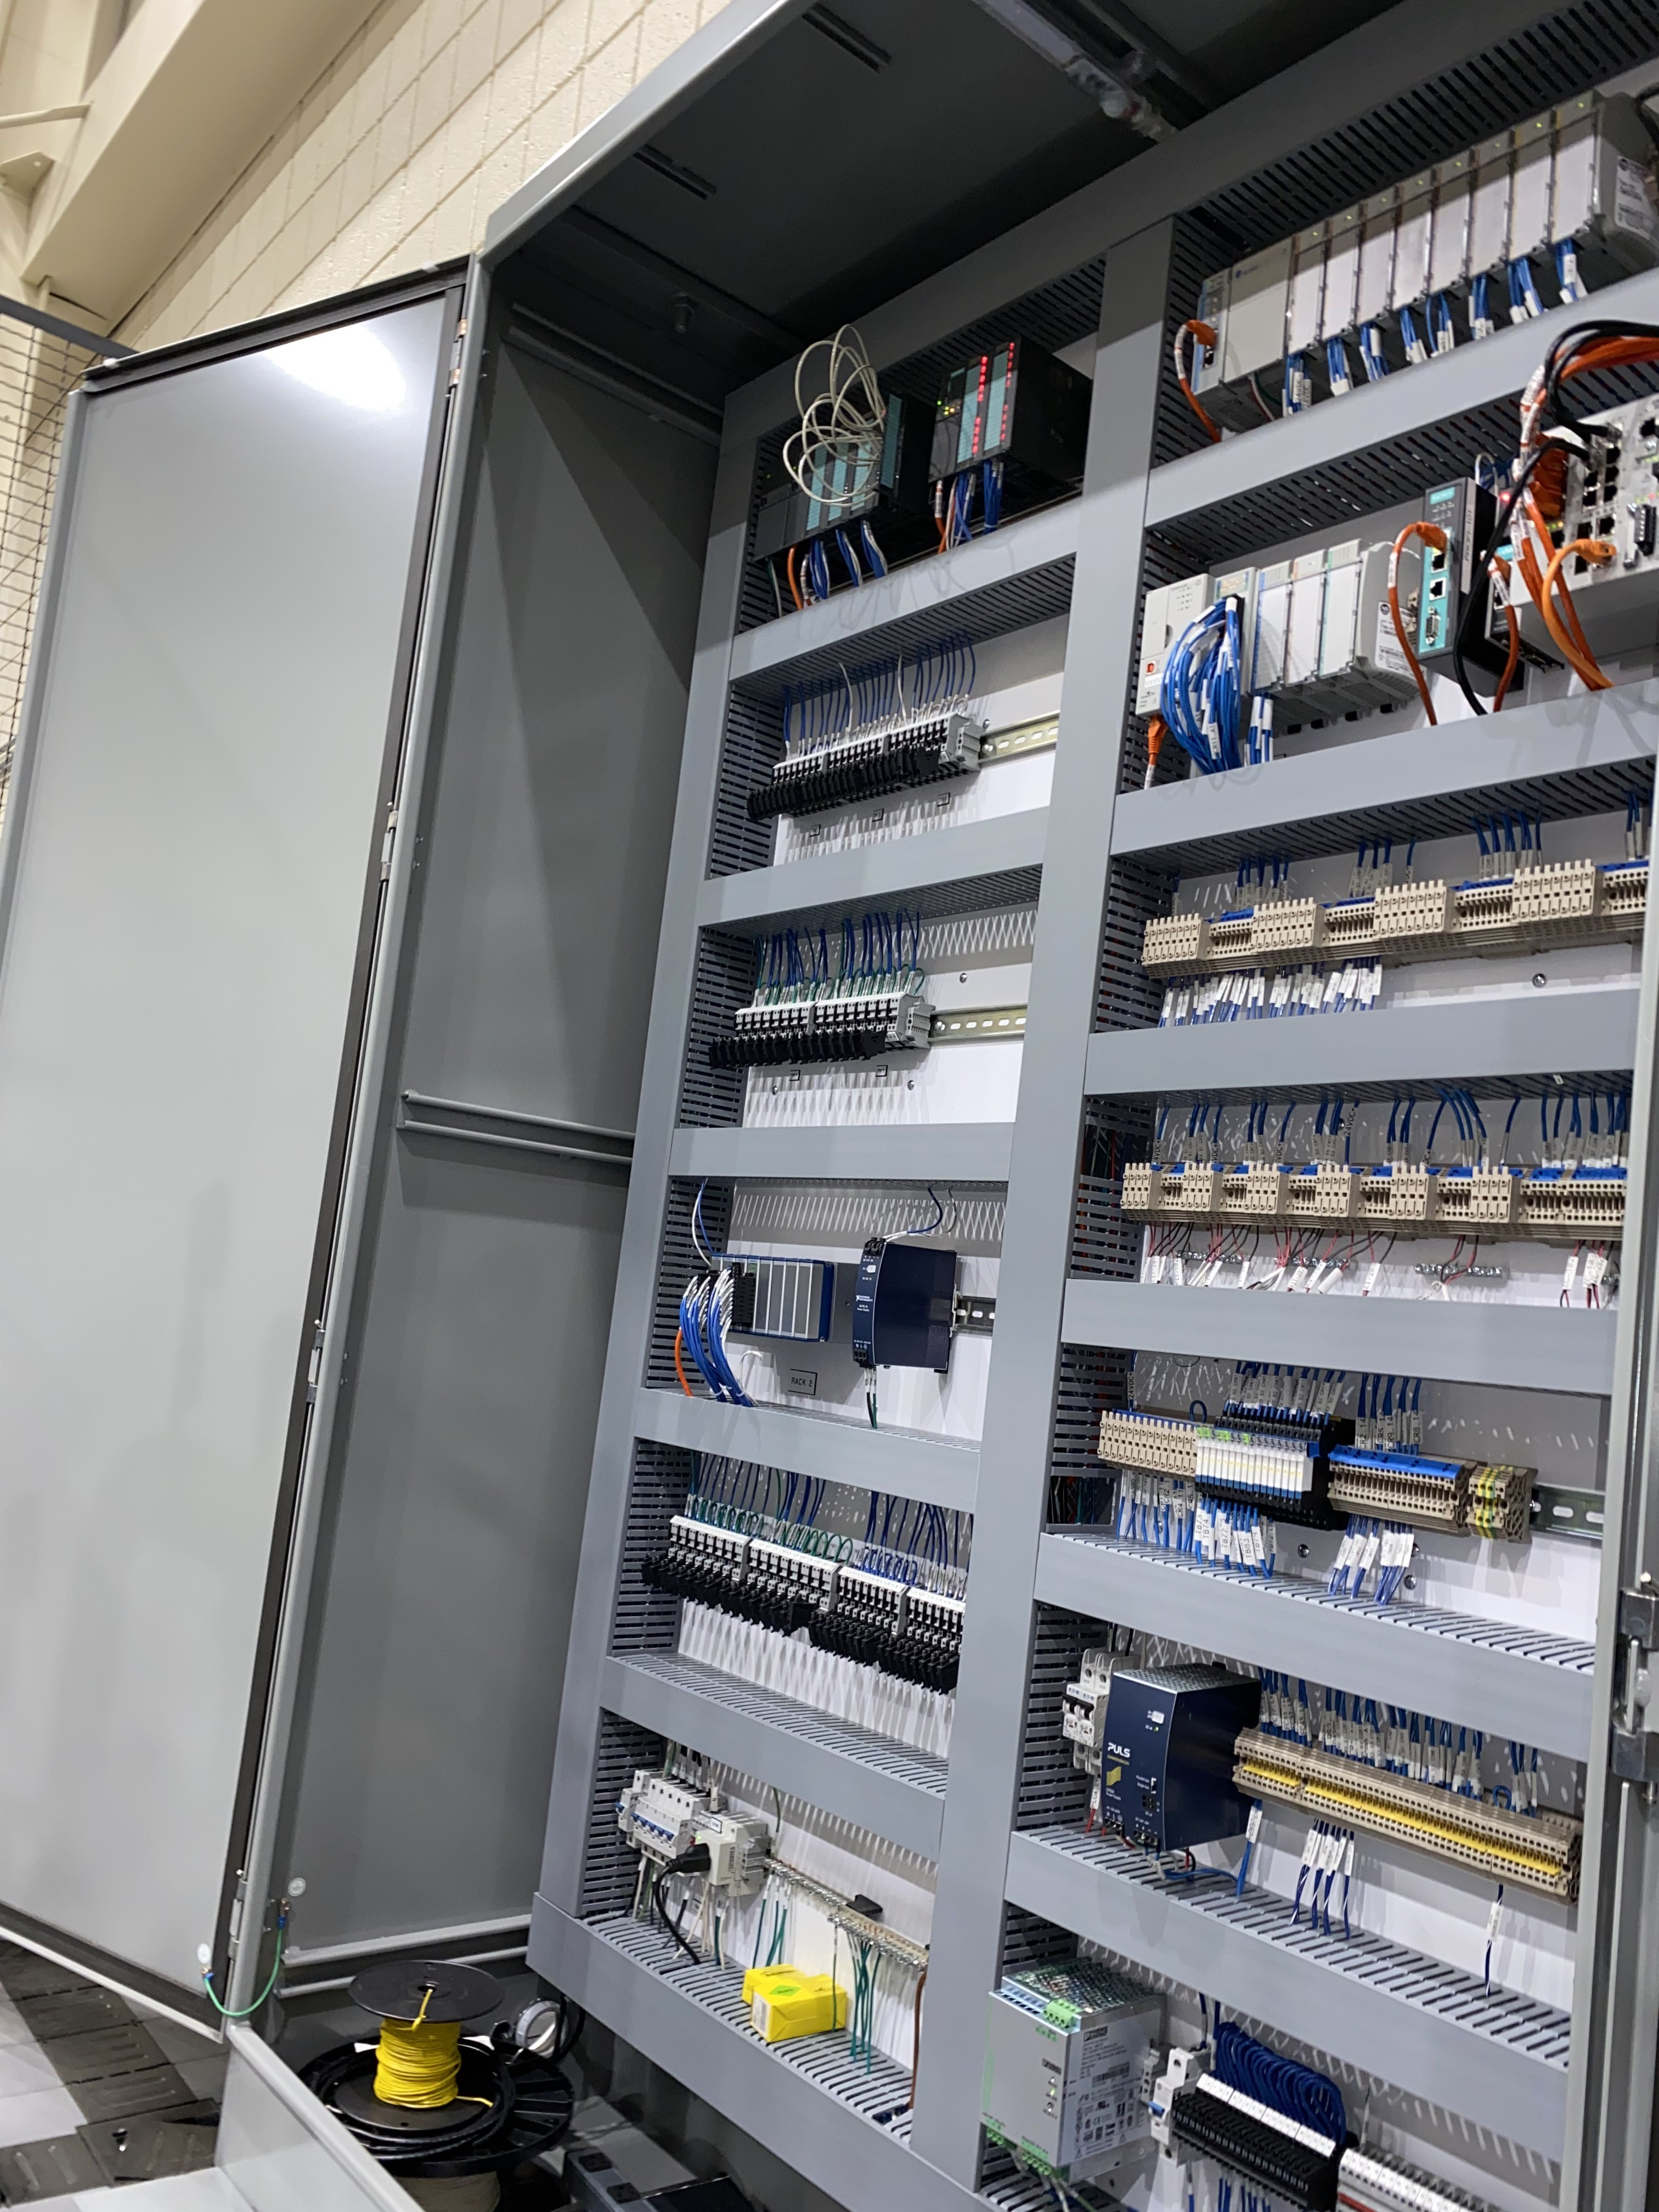AllenBradley: (1133, 564, 1211, 718)
Siemens: (781, 432, 819, 557)
